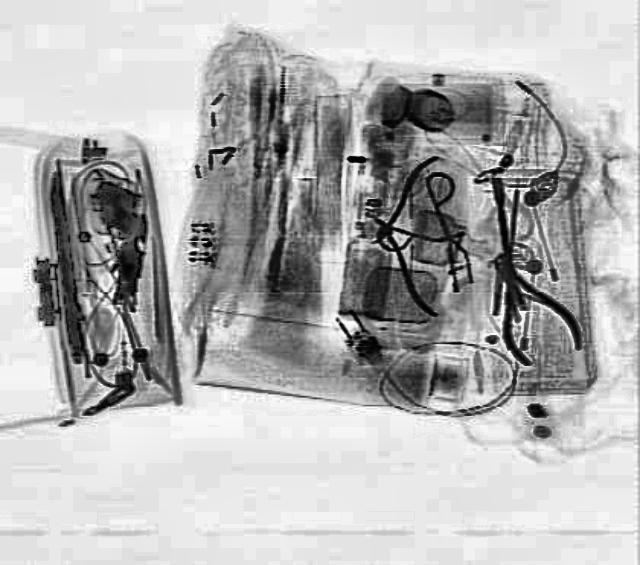Pliers: (461, 229, 589, 369), (366, 152, 442, 314)
